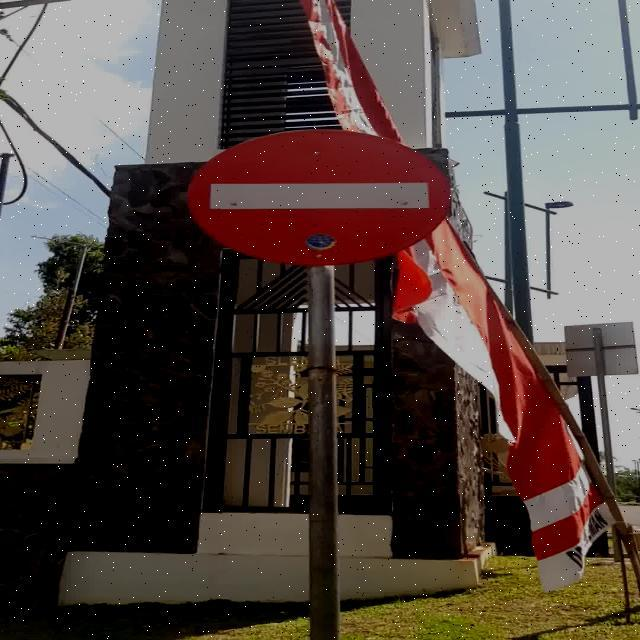Dilarang Masuk: (187, 128, 452, 265)
